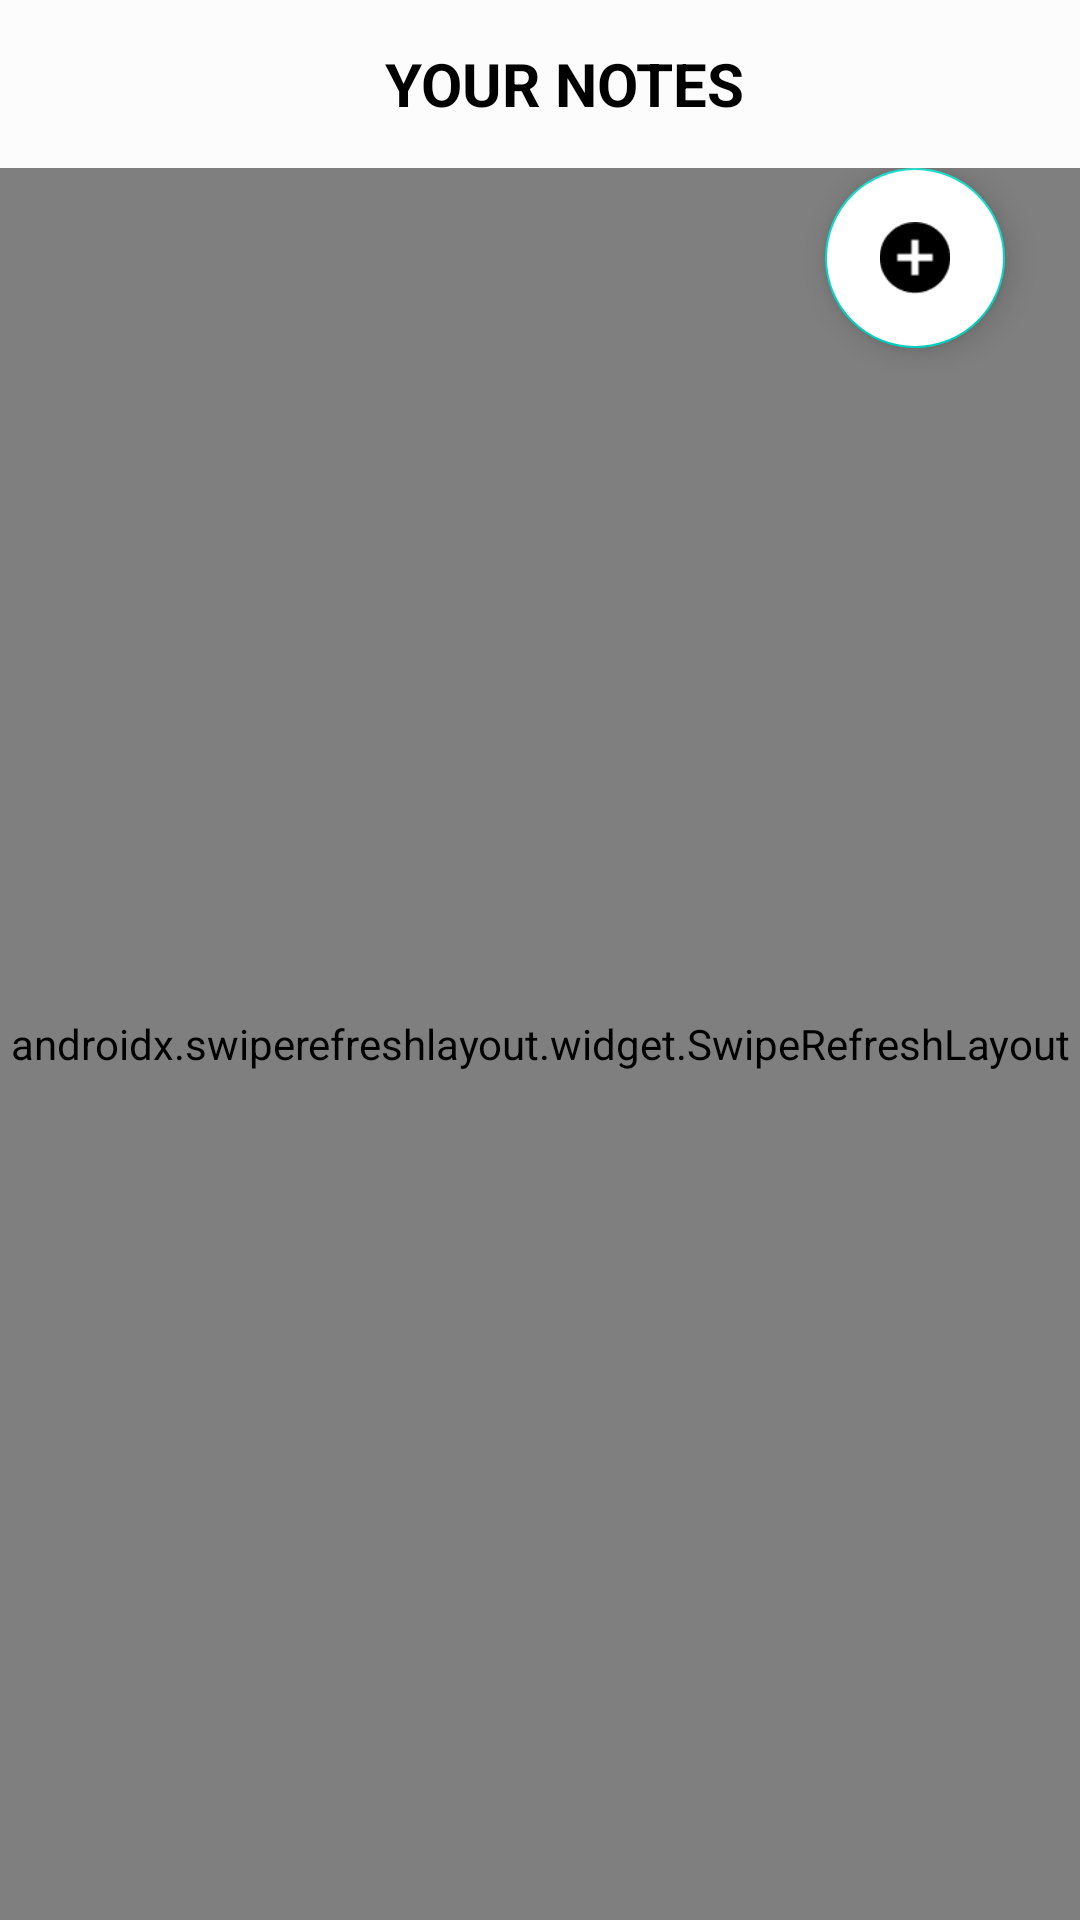

Named icons in this screenshot (1080x1920) and their bounding boxes, [x1,y1,x2,y2]:
notesadd: [825,168,1005,348]
